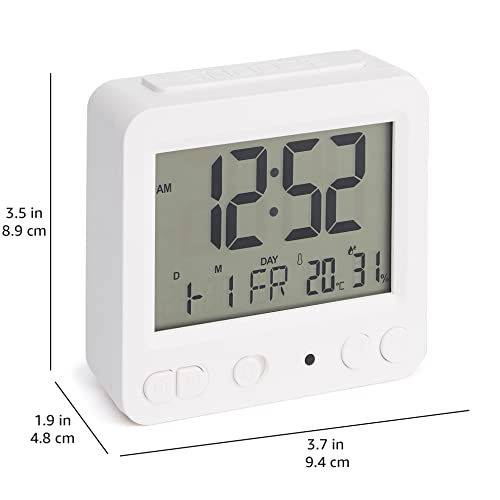3.5in: (6, 207, 42, 218)
48cm: (30, 432, 74, 443)
8.9m: (2, 225, 46, 236)
9.4cm: (306, 456, 349, 468)
